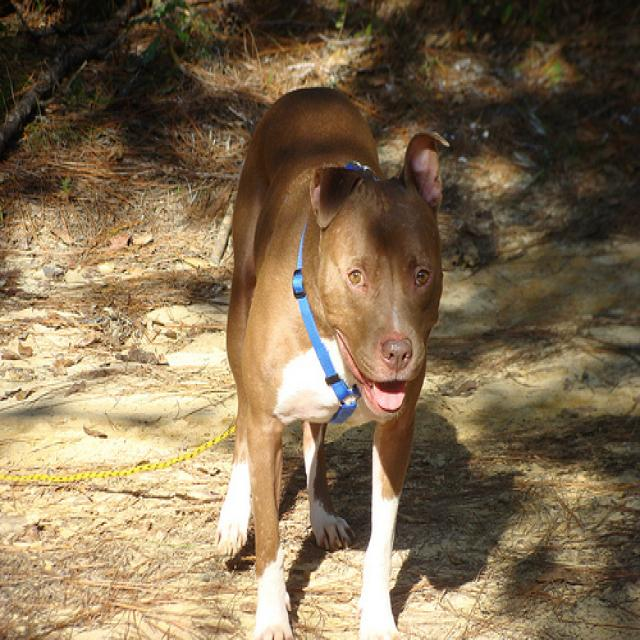dog-american_pit_bull_terrier: (209, 73, 453, 637)
